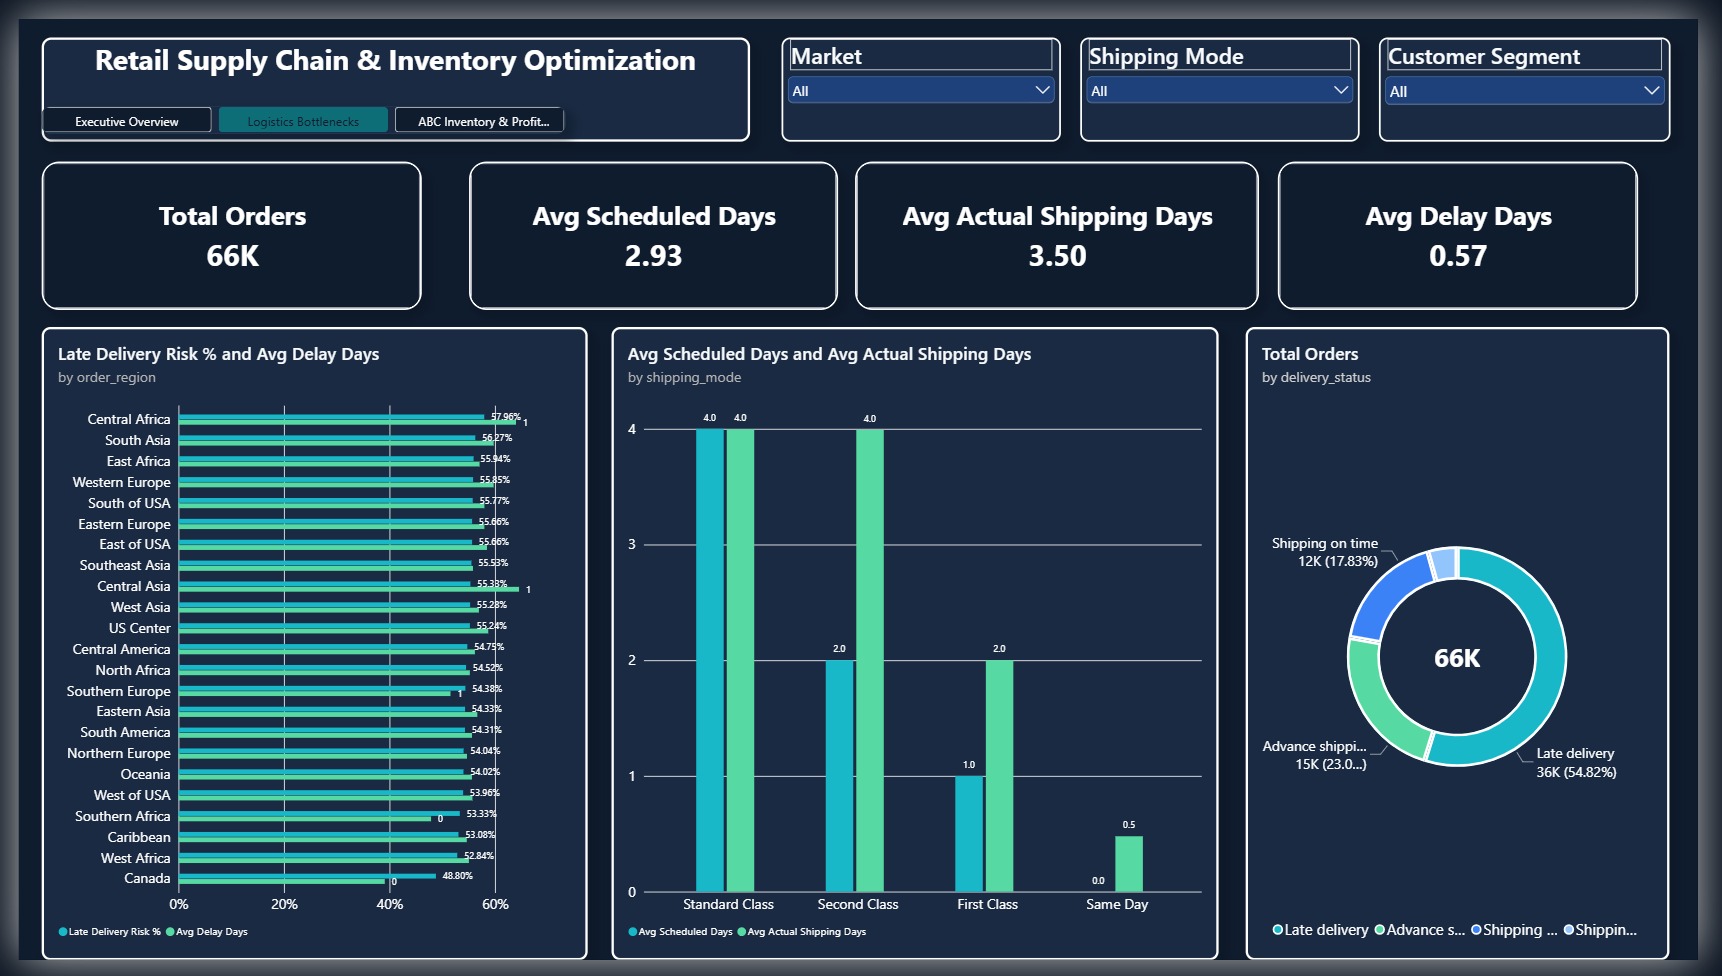

The dashboard page shown, as its layout file describes it:
{"tool":"powerbi","page":{"name":"Logistics Bottlenecks","canvas":[1920,1080],"ordinal":1},"visuals":[{"type":"textbox","box":[23.9,19.1,811.2,119.3],"z":0},{"type":"slicer","fields":{"Values":["vw_fact_orders.market"]},"box":[875.6,19.1,319.7,119.3],"z":1000},{"type":"slicer","fields":{"Values":["vw_dim_customers.customer_segment"]},"box":[1555.6,19.1,334,119.3],"z":2000},{"type":"slicer","fields":{"Values":["vw_fact_orders.shipping_mode"]},"box":[1216.8,19.1,319.7,119.3],"z":3000},{"type":"cardVisual","fields":{"Data":["vw_fact_orders.Total Orders"]},"box":[25,165,435,170],"z":4000},{"type":"cardVisual","fields":{"Data":["vw_fact_orders.Avg Actual Shipping Days"]},"box":[960,165,462.5,170],"z":5000},{"type":"cardVisual","fields":{"Data":["vw_fact_orders.Avg Delay Days"]},"box":[1442.5,165,412.5,170],"z":6000},{"type":"cardVisual","fields":{"Data":["vw_fact_orders.Avg Scheduled Days"]},"box":[515,165,422.5,170],"z":8000},{"type":"clusteredColumnChart","fields":{"Category":["vw_fact_orders.shipping_mode"],"Y":["vw_fact_orders.Avg Scheduled Days","vw_fact_orders.Avg Actual Shipping Days"]},"box":[680,355,695,725],"z":9000},{"type":"donutChart","fields":{"Category":["vw_fact_orders.delivery_status"],"Y":["vw_fact_orders.Total Orders"]},"box":[1405,355,485,725],"z":12001},{"type":"clusteredBarChart","fields":{"Category":["vw_fact_orders.order_region"],"Y":["vw_fact_orders.Late Delivery Risk %","vw_fact_orders.Avg Delay Days"]},"box":[25,355,625,725],"z":12002},{"type":"pageNavigator","box":[25.7,100,600,31.4],"z":12003}]}

Visuals, with their boxes in screenshot pixels (x1, y1, x2, y2), scaled from the page's 1920x1080 canvas onto the 1722x976 screenshot:
textbox: (left=21, top=17, right=749, bottom=125)
slicer - vw_fact_orders.market: (left=785, top=17, right=1072, bottom=125)
slicer - vw_dim_customers.customer_segment: (left=1395, top=17, right=1695, bottom=125)
slicer - vw_fact_orders.shipping_mode: (left=1091, top=17, right=1378, bottom=125)
cardVisual - vw_fact_orders.Total Orders: (left=22, top=149, right=413, bottom=303)
cardVisual - vw_fact_orders.Avg Actual Shipping Days: (left=861, top=149, right=1276, bottom=303)
cardVisual - vw_fact_orders.Avg Delay Days: (left=1294, top=149, right=1664, bottom=303)
cardVisual - vw_fact_orders.Avg Scheduled Days: (left=462, top=149, right=841, bottom=303)
clusteredColumnChart - vw_fact_orders.shipping_mode x vw_fact_orders.Avg Scheduled Days: (left=610, top=321, right=1233, bottom=975)
donutChart - vw_fact_orders.delivery_status x vw_fact_orders.Total Orders: (left=1260, top=321, right=1695, bottom=975)
clusteredBarChart - vw_fact_orders.order_region x vw_fact_orders.Late Delivery Risk %: (left=22, top=321, right=583, bottom=975)
pageNavigator: (left=23, top=90, right=561, bottom=119)
